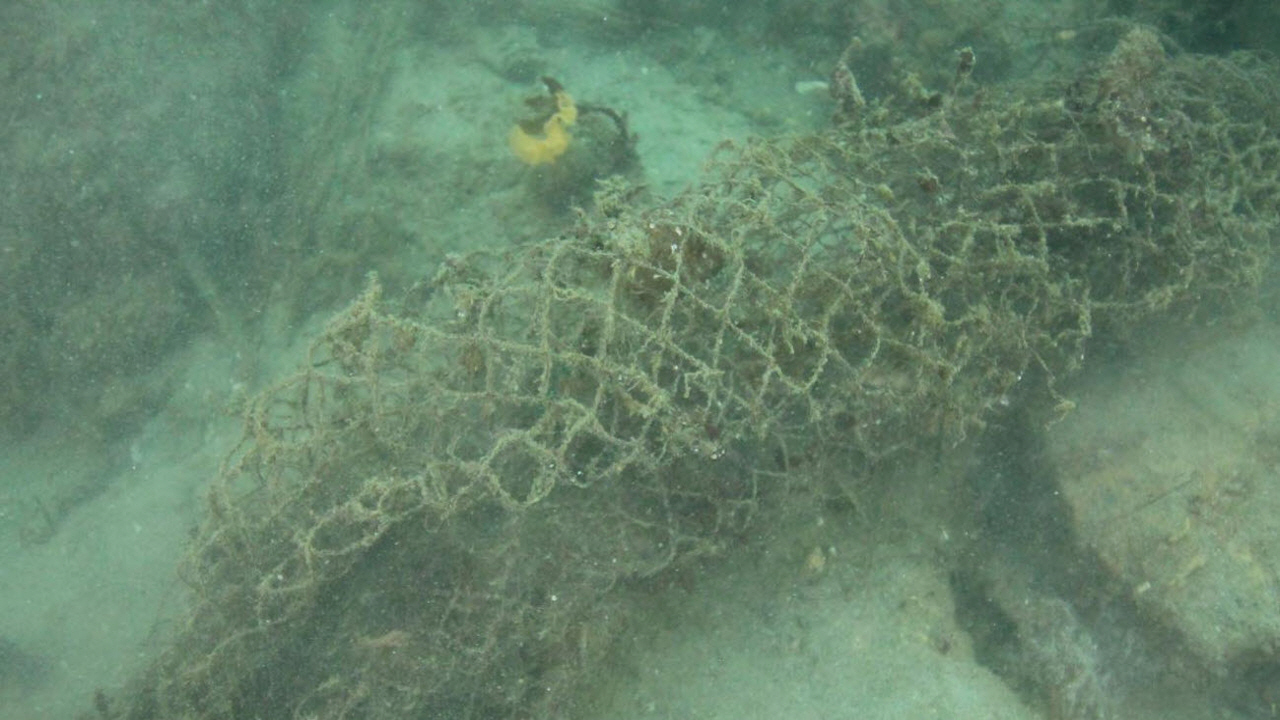fish net: (182, 103, 1280, 720)
